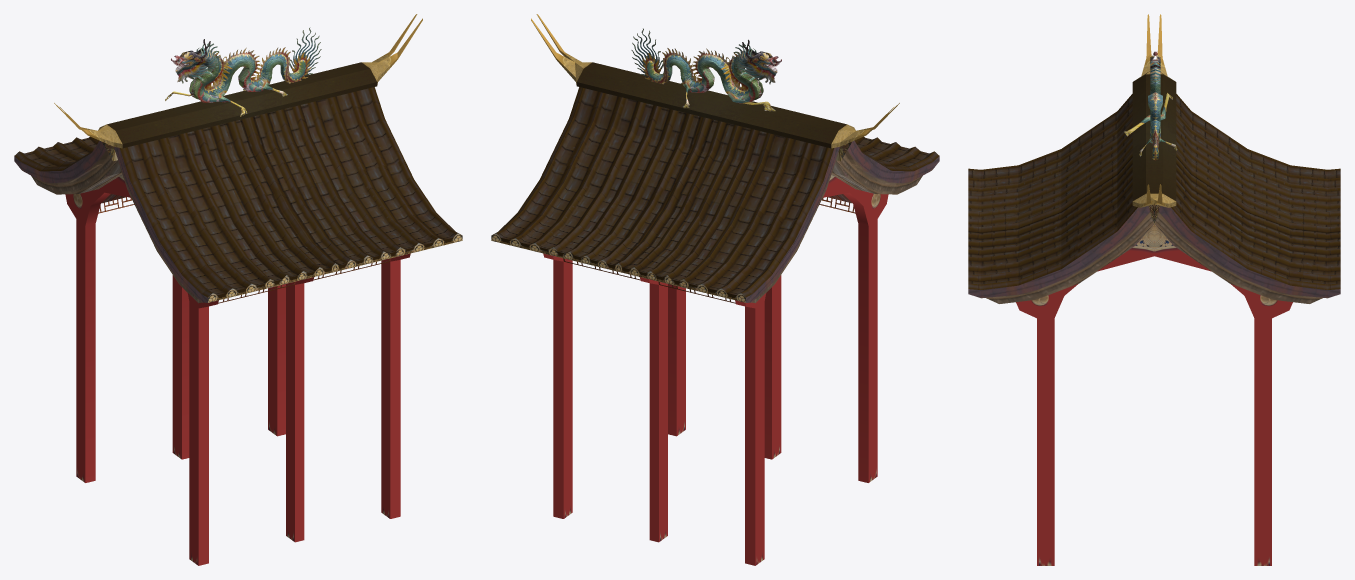
File: tettodrago.obj
3 renders of one model, left to right at view 1: azimuth 30°, elevation 25°; view 2: azimuth 150°, elevation 25°; view 3: azimuth 270°, elevation 25°, orthographic. The views are drawn at different scales.
Visible parts, largest first — view 1: tettodrago_Cube.000; view 2: tettodrago_Cube.000; view 3: tettodrago_Cube.000.
Part boxes in pixels (x1,y1,x2,y2): tettodrago_Cube.000: [14, 14, 462, 565]; tettodrago_Cube.000: [491, 14, 939, 565]; tettodrago_Cube.000: [968, 14, 1340, 565].
Size of the model in its own units: 11.34 by 13.94 by 10.47.
